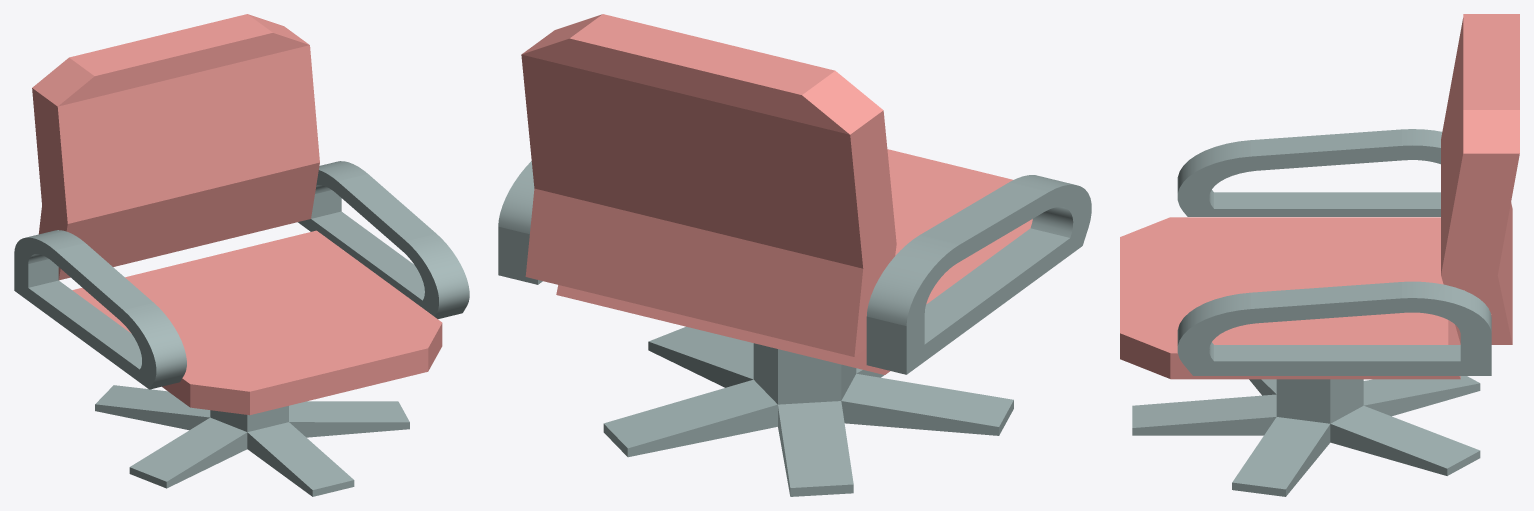
Rendered from kn-chair-desk.glb.
The picture shows the model from 3 angles, left to right: view 1: azimuth 30°, elevation 25°; view 2: azimuth 150°, elevation 25°; view 3: azimuth 270°, elevation 25°; orthographic projection. The views are drawn at different scales.
Parts seen in each view (by area): view 1: chair, chairDesk(Clone); view 2: chair, chairDesk(Clone); view 3: chairDesk(Clone), chair.
Part boxes in pixels (x1=…): chair: x1=32, y1=14, x2=442, y2=415; chairDesk(Clone): x1=14, y1=161, x2=469, y2=496; chair: x1=521, y1=14, x2=1032, y2=374; chairDesk(Clone): x1=498, y1=161, x2=1091, y2=496; chairDesk(Clone): x1=1132, y1=129, x2=1491, y2=496; chair: x1=1120, y1=14, x2=1519, y2=379.
Size of the model in its own units: 1 by 1 by 1.
